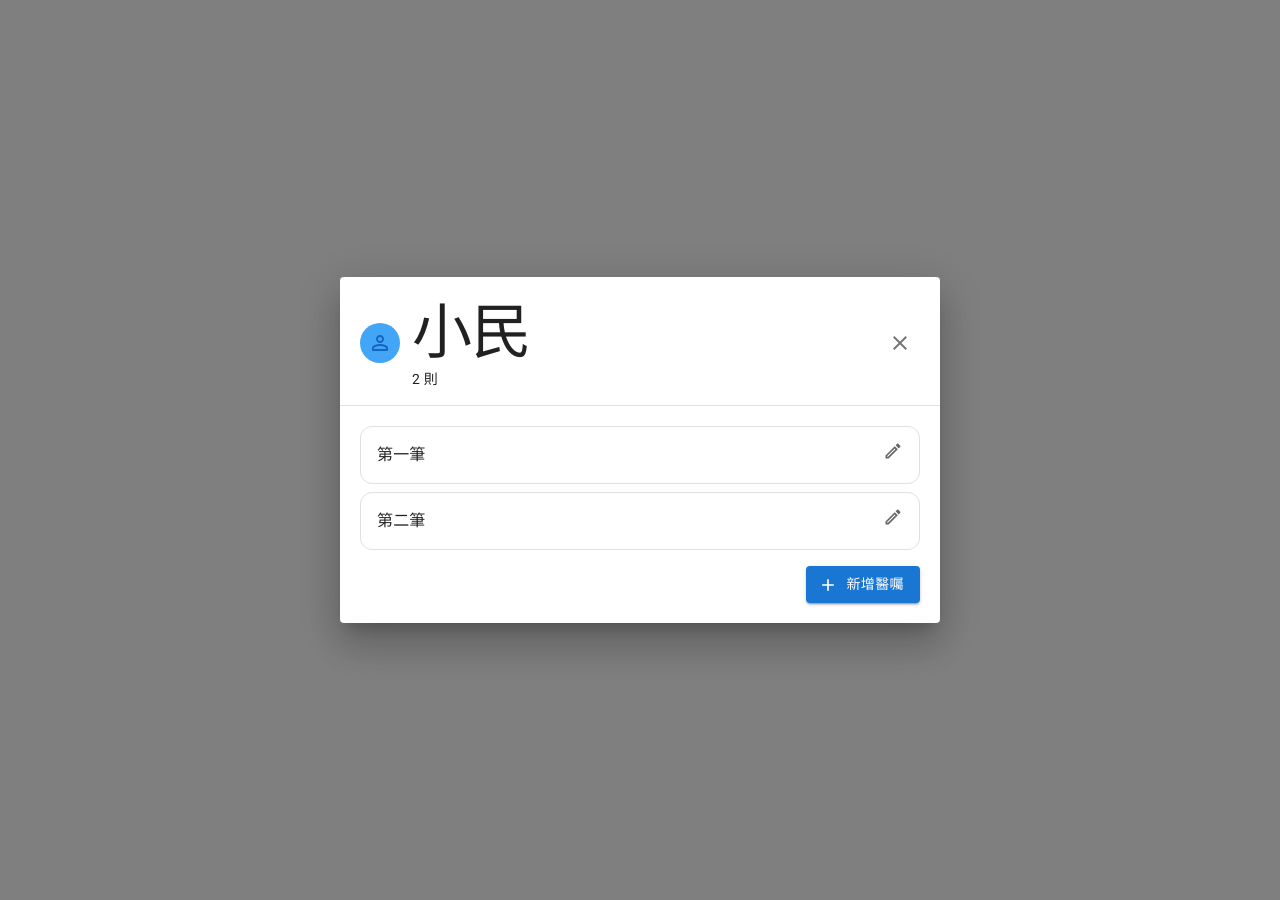
OrderDialog 編輯醫囑 › 編輯畫面按返回回到清單，清單內容不變
This screenshot has width=1280, height=900.
Click the button "第一筆" at (401,455), box [360, 426, 920, 484]
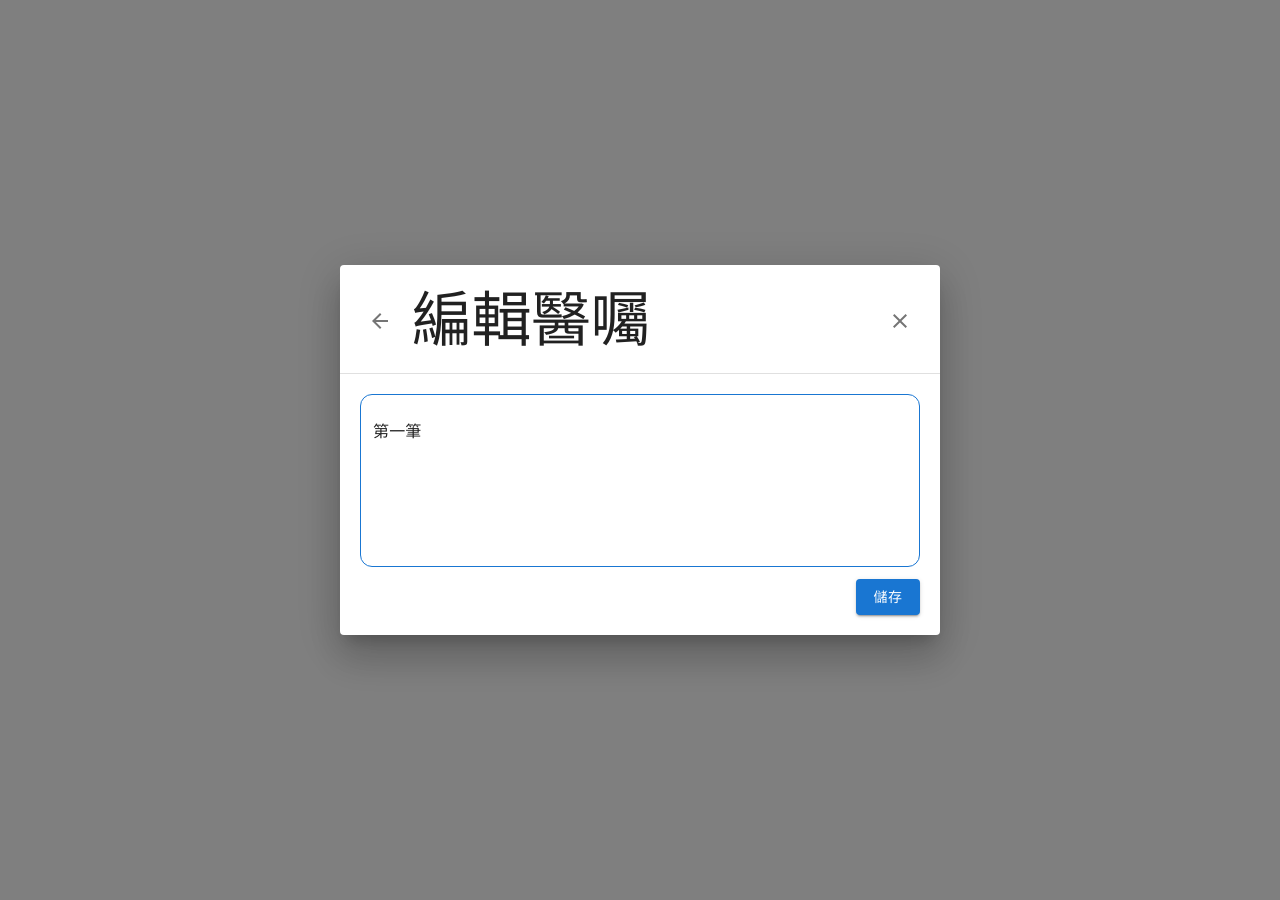
Type "改到一半" into the text box named "醫囑內容" at (640,489), box [373, 420, 907, 558]
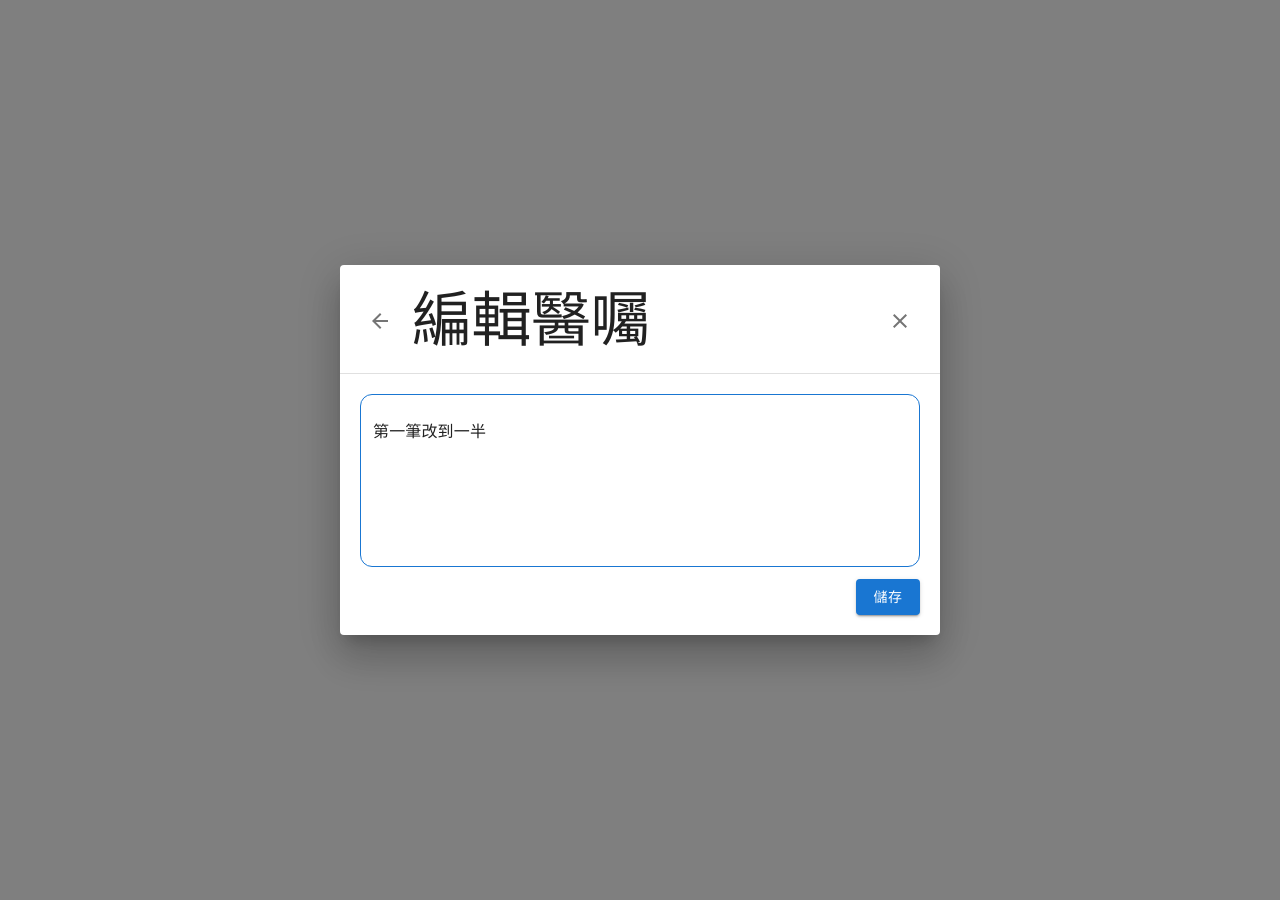
Click the button named "返回" at (380,321), box [360, 301, 400, 341]
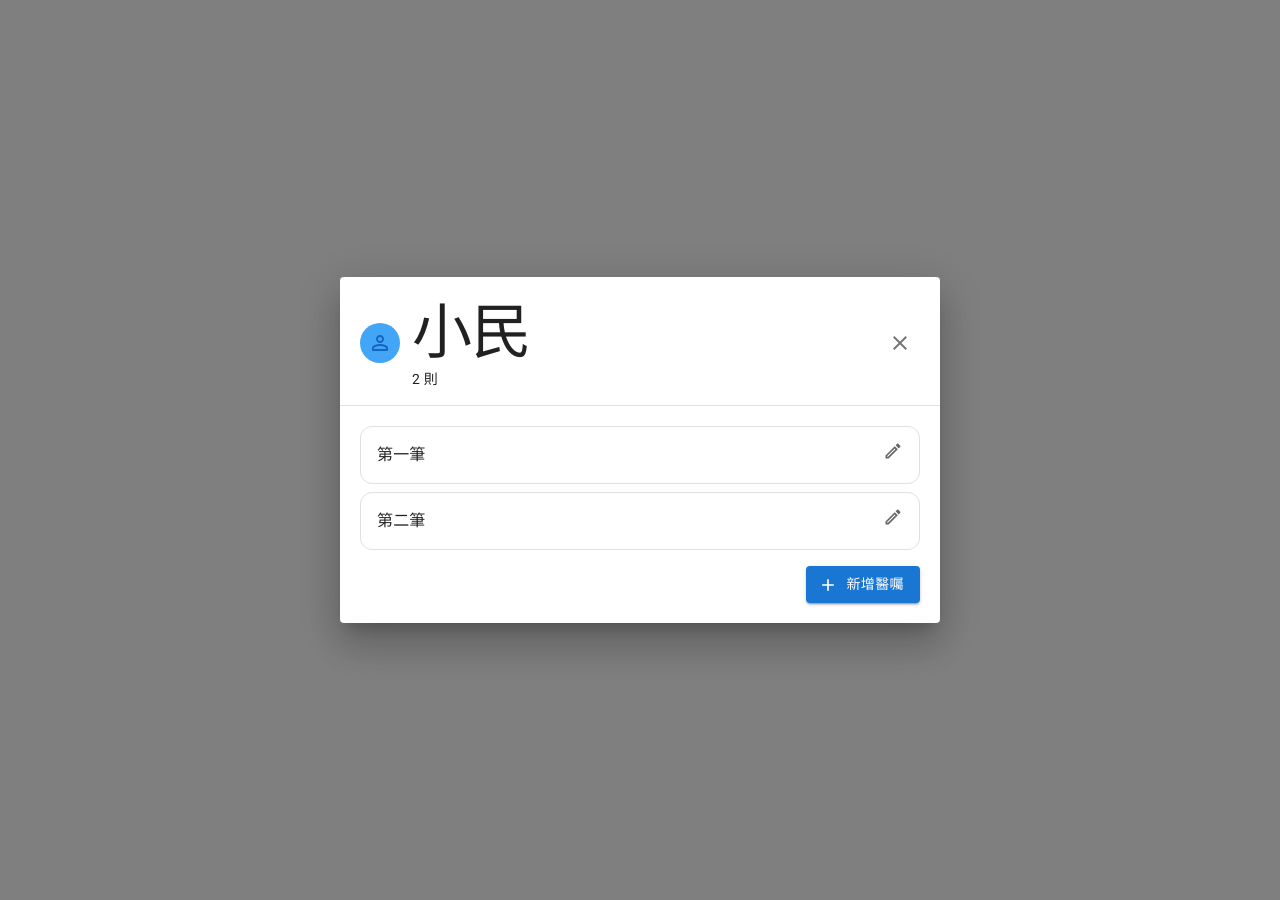
Check: the text box labelled "醫囑內容" is gone
Check: the buttons read "第一筆", "第二筆", in this order, box [360, 426, 920, 484]; [360, 492, 920, 550]
